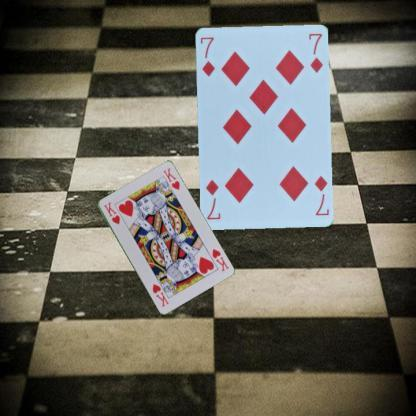7d: (197, 34, 216, 78), (312, 172, 330, 216)
Kh: (100, 200, 122, 226), (209, 246, 230, 273)
